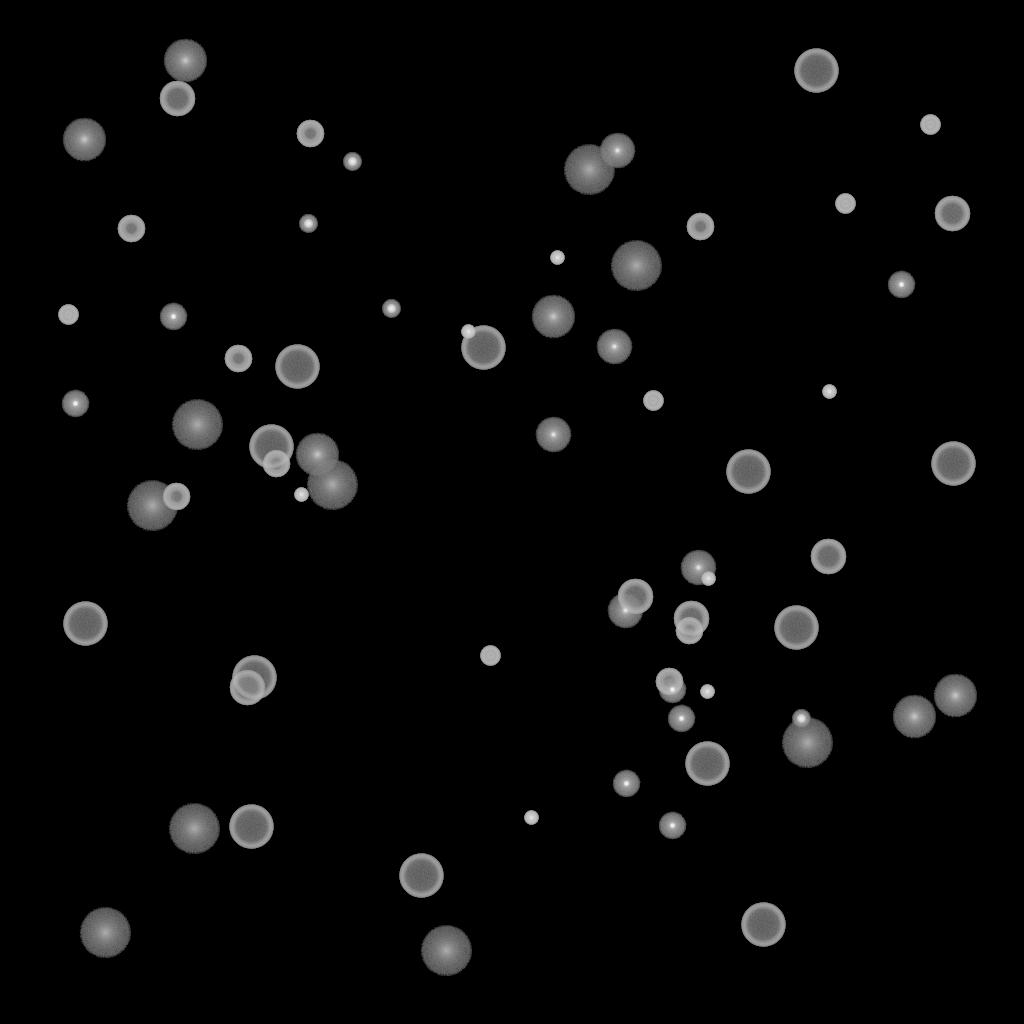depth:-10: (658, 812, 686, 840), (667, 705, 695, 733), (159, 303, 187, 331), (658, 676, 686, 704), (612, 770, 640, 798), (61, 390, 89, 418), (887, 271, 915, 299)
depth:-20: (343, 153, 361, 171), (792, 710, 810, 728), (382, 300, 400, 318), (299, 215, 317, 233)
depth:-30: (294, 488, 308, 502), (461, 325, 475, 339), (524, 811, 538, 825), (701, 572, 715, 586), (700, 685, 714, 699), (822, 385, 836, 399), (550, 251, 564, 265)
depth:-40: (643, 391, 663, 411), (480, 646, 500, 666), (920, 115, 940, 135), (58, 305, 78, 325), (835, 194, 855, 214)
depth:-50: (262, 450, 290, 478), (224, 345, 252, 373), (675, 617, 703, 645), (117, 215, 145, 243), (686, 213, 714, 241), (162, 483, 190, 511), (296, 120, 324, 148), (655, 668, 683, 696)
depth:-60: (934, 196, 970, 232), (159, 81, 195, 117), (229, 670, 265, 706), (810, 539, 846, 575), (617, 579, 653, 615), (673, 601, 709, 637)
depth:-70: (931, 442, 975, 486), (249, 425, 293, 469), (741, 903, 785, 947), (461, 326, 505, 370), (63, 602, 107, 646), (794, 49, 838, 93), (229, 805, 273, 849), (774, 606, 818, 650), (232, 656, 276, 700), (399, 854, 443, 898), (726, 450, 770, 494), (685, 742, 729, 786), (275, 345, 319, 389)
depth:0: (599, 133, 635, 169), (535, 417, 571, 453), (607, 593, 643, 629), (680, 550, 716, 586), (596, 329, 632, 365)
depth:10: (62, 118, 106, 162), (163, 39, 207, 83), (933, 674, 977, 718), (531, 295, 575, 339), (892, 695, 936, 739), (295, 433, 339, 477)
depth:20: (306, 460, 358, 510), (563, 145, 615, 195), (781, 718, 833, 768), (79, 908, 131, 958), (610, 241, 662, 291), (168, 804, 220, 854), (420, 926, 472, 976), (126, 481, 178, 531), (171, 400, 223, 450)
